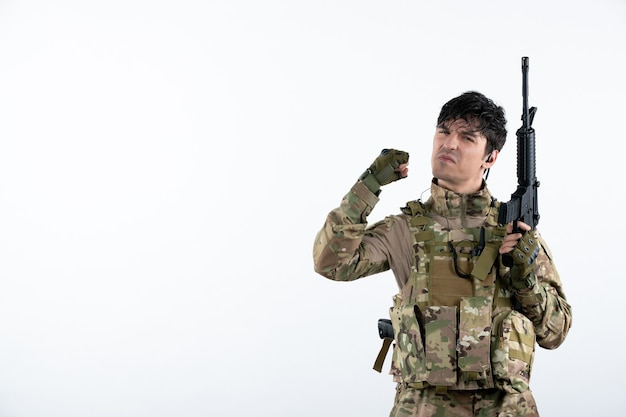gun: (498, 52, 543, 244)
